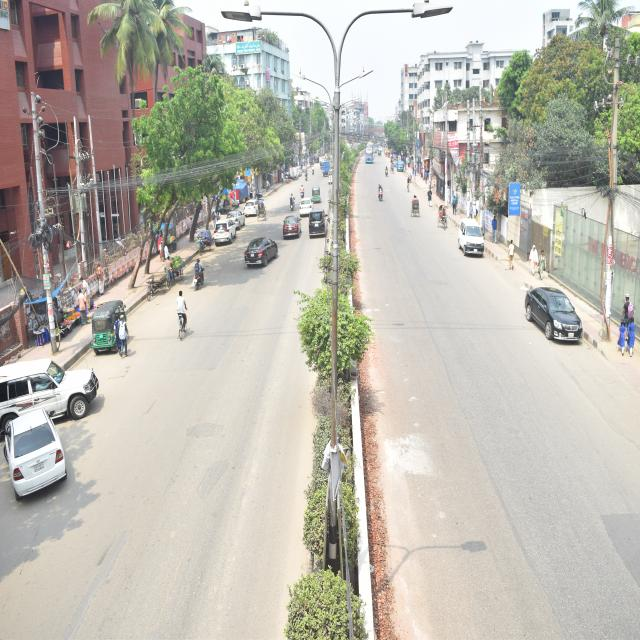bus: (360, 144, 380, 176)
car: (0, 346, 102, 440), (515, 273, 592, 369), (0, 411, 76, 499), (238, 229, 287, 288), (452, 212, 487, 266), (234, 182, 260, 230), (278, 211, 305, 252), (218, 198, 247, 232), (212, 217, 236, 258), (304, 211, 332, 239), (296, 197, 318, 222)
motorbike: (186, 258, 216, 297), (370, 182, 389, 215), (279, 183, 297, 216), (296, 179, 310, 204), (383, 163, 392, 187), (310, 161, 316, 181), (303, 166, 309, 183)
